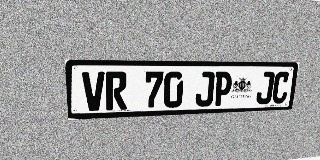0: (163, 72, 184, 108)
7: (143, 72, 164, 109)
C: (271, 72, 290, 104)
J: (195, 72, 215, 107), (255, 72, 275, 104)
P: (213, 72, 233, 106)
R: (105, 72, 127, 110)
V: (82, 72, 105, 111)
